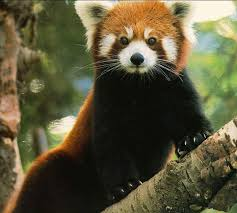redPanda: (65, 1, 205, 169)
